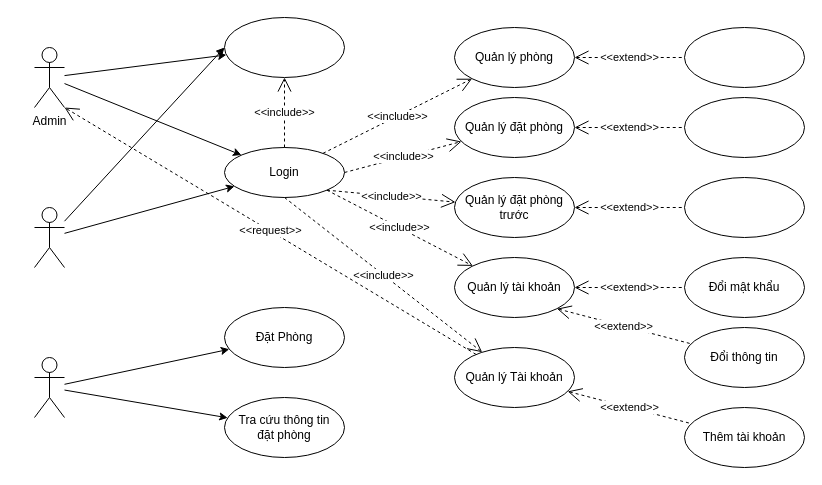
This 822x485 diagram has some shape labels left out. The box of each missing label's shape, as (x1, y1, x2, y2) in pixels:
Khách hàng: (34, 356, 64, 418)
Logout: (224, 16, 344, 78)
Lễ Tân: (34, 206, 64, 268)
Thêm, tìm kiếm, sửa tình trạng đặt phòng: (684, 96, 804, 158)
Thêm,sửa tình trạng phòng: (684, 26, 804, 88)
Thêm,tìm kiếm, sửa tình trạng đặt phòng trước: (684, 176, 804, 238)
